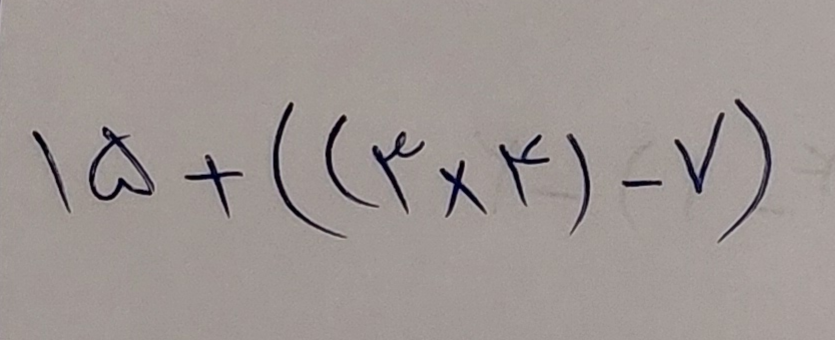character: (272, 100, 348, 236), (715, 99, 772, 245), (325, 113, 378, 207), (372, 129, 426, 214), (88, 126, 153, 193), (675, 110, 725, 195), (500, 133, 552, 207), (185, 153, 243, 214), (31, 130, 72, 212), (439, 159, 492, 219), (565, 132, 591, 237), (619, 178, 664, 189)
